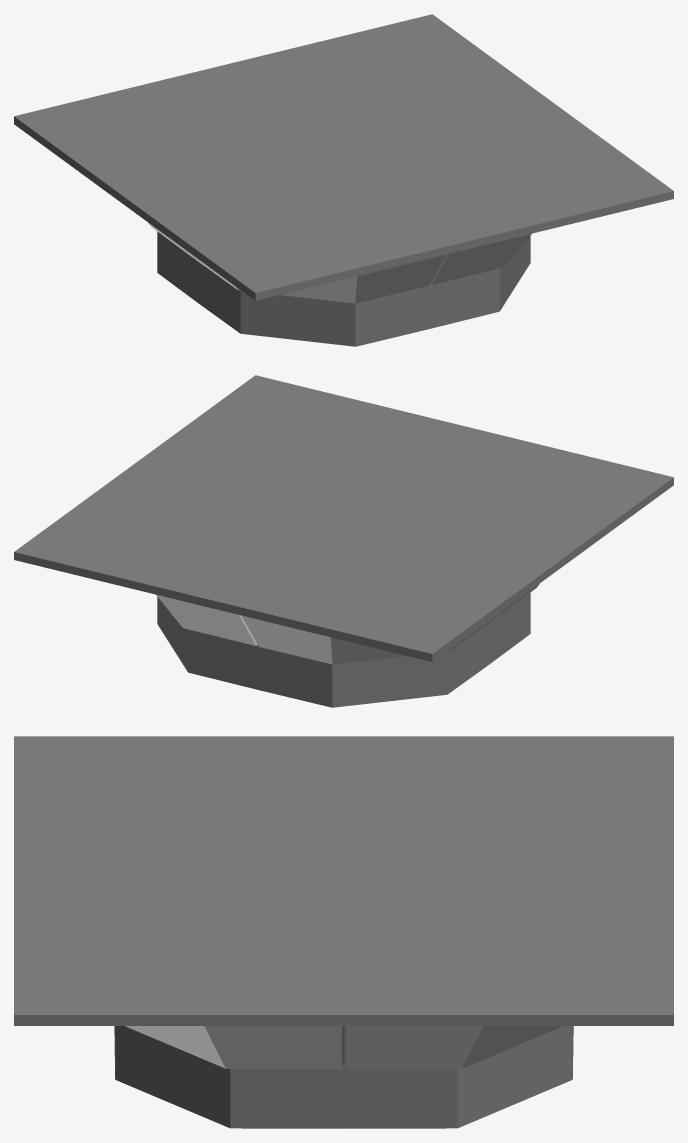
File: ATCRoom 1.fbx
3 renders of one model, top to bottom at view 1: azimuth 30°, elevation 25°; view 2: azimuth 150°, elevation 25°; view 3: azimuth 270°, elevation 25°, orthographic. The views are drawn at different scales.
Parts seen in each view (by area): view 1: Cube.002, Cube.004; view 2: Cube.002, Cube.004; view 3: Cube.002, Cube.004.
Part boxes in pixels (x1,y1,x2,y2): Cube.002: (14,14,673,346); Cube.004: (148,222,531,303); Cube.002: (14,375,673,707); Cube.004: (156,583,539,664); Cube.002: (14,736,673,1128); Cube.004: (125,1026,562,1069).
Bounding box in the file's own units: 1200 × 313 × 1200.
Materials: 2 (1 with a texture image).
